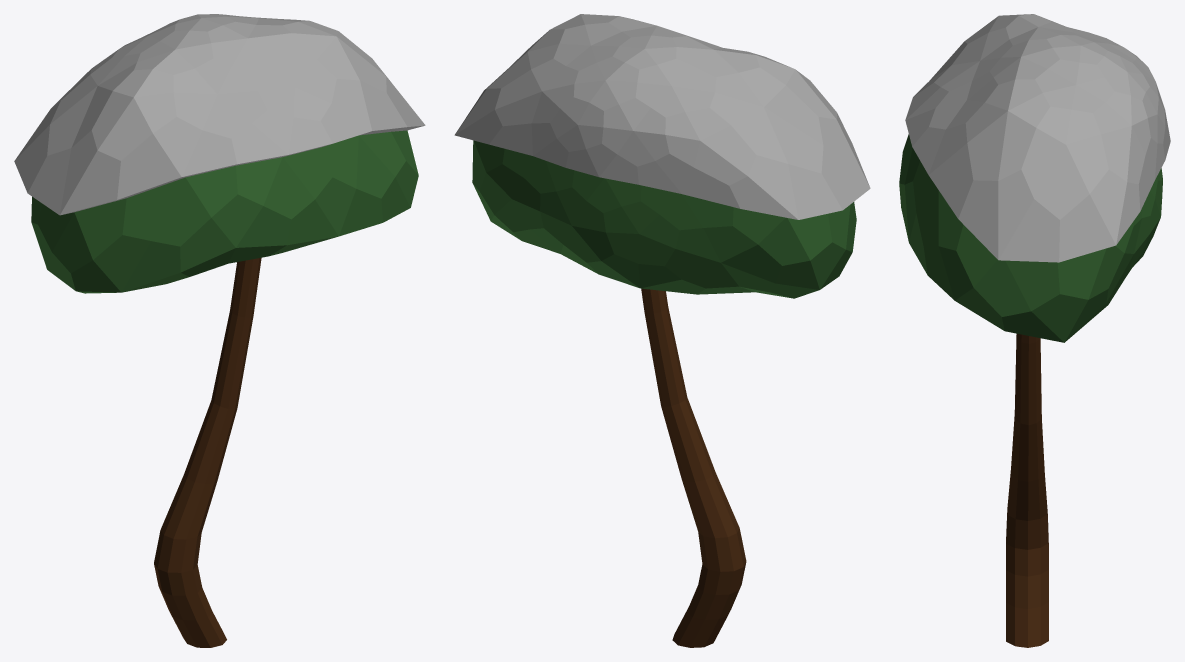
Rendered from Tree1.obj.
3 renders of one model, left to right at view 1: azimuth 30°, elevation 25°; view 2: azimuth 150°, elevation 25°; view 3: azimuth 270°, elevation 25°, orthographic.
Visible parts, largest first — view 1: Tree1_Cylinder.008; view 2: Tree1_Cylinder.008; view 3: Tree1_Cylinder.008.
Boxes of the visible parts, <box> form: Tree1_Cylinder.008: <box>14,14,425,647</box>; Tree1_Cylinder.008: <box>454,14,870,647</box>; Tree1_Cylinder.008: <box>899,14,1170,647</box>.
Bounding box in the file's own units: 4.41 × 6.82 × 2.76.
